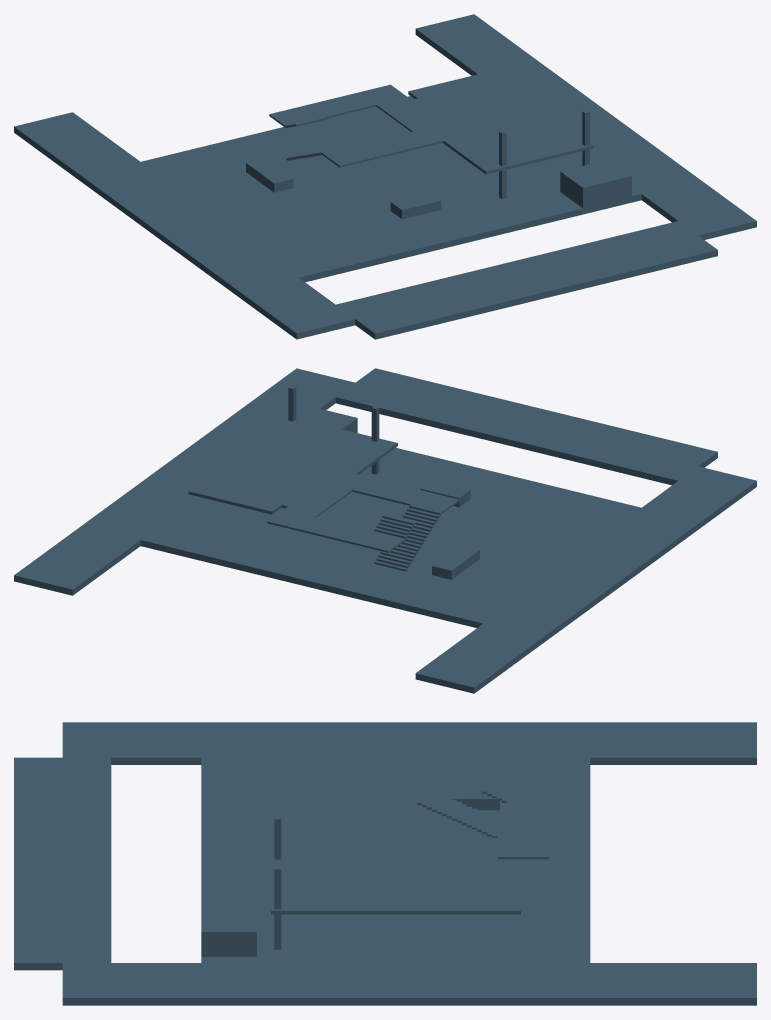
The model's file is v02-01-05-deck.glb.
3 views of the same model, one above another, from view 1: azimuth 30°, elevation 25°; view 2: azimuth 150°, elevation 25°; view 3: azimuth 270°, elevation 25° (orthographic). The views are drawn at different scales.
Parts seen in each view (by area): view 1: v02-01-05-deck; view 2: v02-01-05-deck; view 3: v02-01-05-deck.
Boxes of the visible parts, x1,y1,x2,y2 form: v02-01-05-deck: (14,14,756,339); v02-01-05-deck: (14,368,756,693); v02-01-05-deck: (14,722,756,1005).
Bounding box in the file's own units: 47 × 7 × 53.5.
